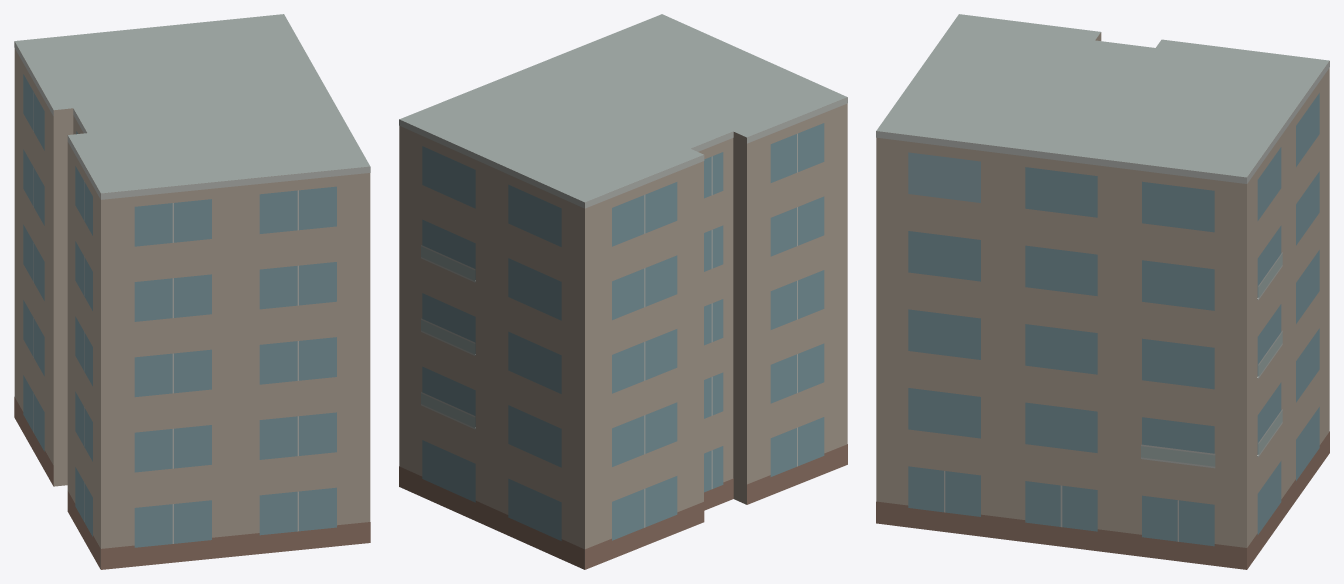
The model's file is survey-upis-32880510.glb.
The picture shows the model from 3 angles, left to right: view 1: azimuth 30°, elevation 25°; view 2: azimuth 150°, elevation 25°; view 3: azimuth 270°, elevation 25°; orthographic projection. The views are drawn at different scales.
Parts seen in each view (by area): view 1: survey-upis-32880510.tmp; view 2: survey-upis-32880510.tmp; view 3: survey-upis-32880510.tmp.
Boxes of the visible parts, x1=… form: survey-upis-32880510.tmp: x1=14, y1=14, x2=370, y2=569; survey-upis-32880510.tmp: x1=399, y1=14, x2=847, y2=569; survey-upis-32880510.tmp: x1=876, y1=14, x2=1329, y2=569.
Bounding box in the file's own units: 12.87 × 14.4 × 15.1.
